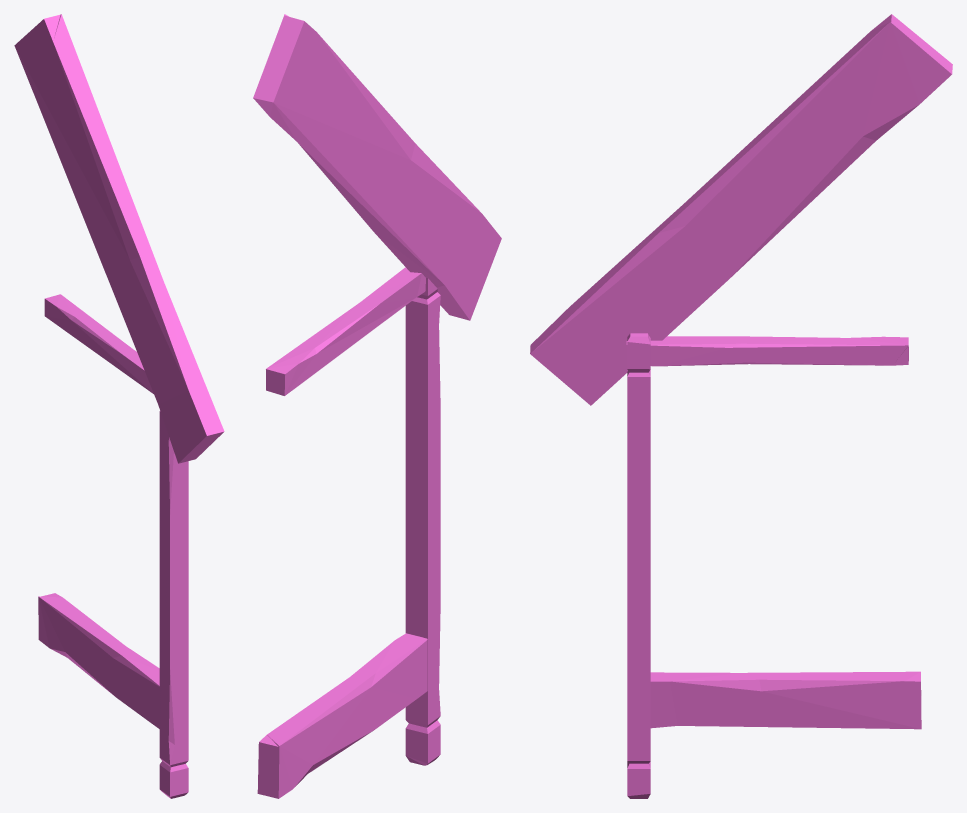
File: SM_Gallery_Roof_Support_Front_A_Fantasy.fbx
3 views of the same model, side by side, from view 1: azimuth 30°, elevation 25°; view 2: azimuth 150°, elevation 25°; view 3: azimuth 270°, elevation 25° (orthographic). The views are drawn at different scales.
Visible parts, largest first — view 1: SM_Gallery_Roof_Support_Front_A_Fantasy; view 2: SM_Gallery_Roof_Support_Front_A_Fantasy; view 3: SM_Gallery_Roof_Support_Front_A_Fantasy.
Part boxes in pixels (left/top/right/bottom): SM_Gallery_Roof_Support_Front_A_Fantasy: left=14, top=14, right=224, bottom=798; SM_Gallery_Roof_Support_Front_A_Fantasy: left=253, top=14, right=501, bottom=798; SM_Gallery_Roof_Support_Front_A_Fantasy: left=530, top=14, right=952, bottom=798.
Size of the model in its own units: 0.2695 by 6.53 by 3.23.
